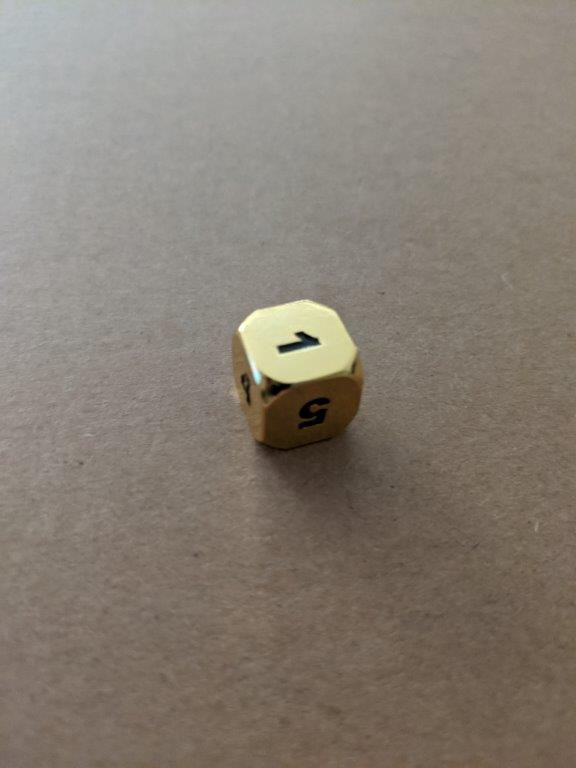d6-1: (233, 300, 362, 451)
